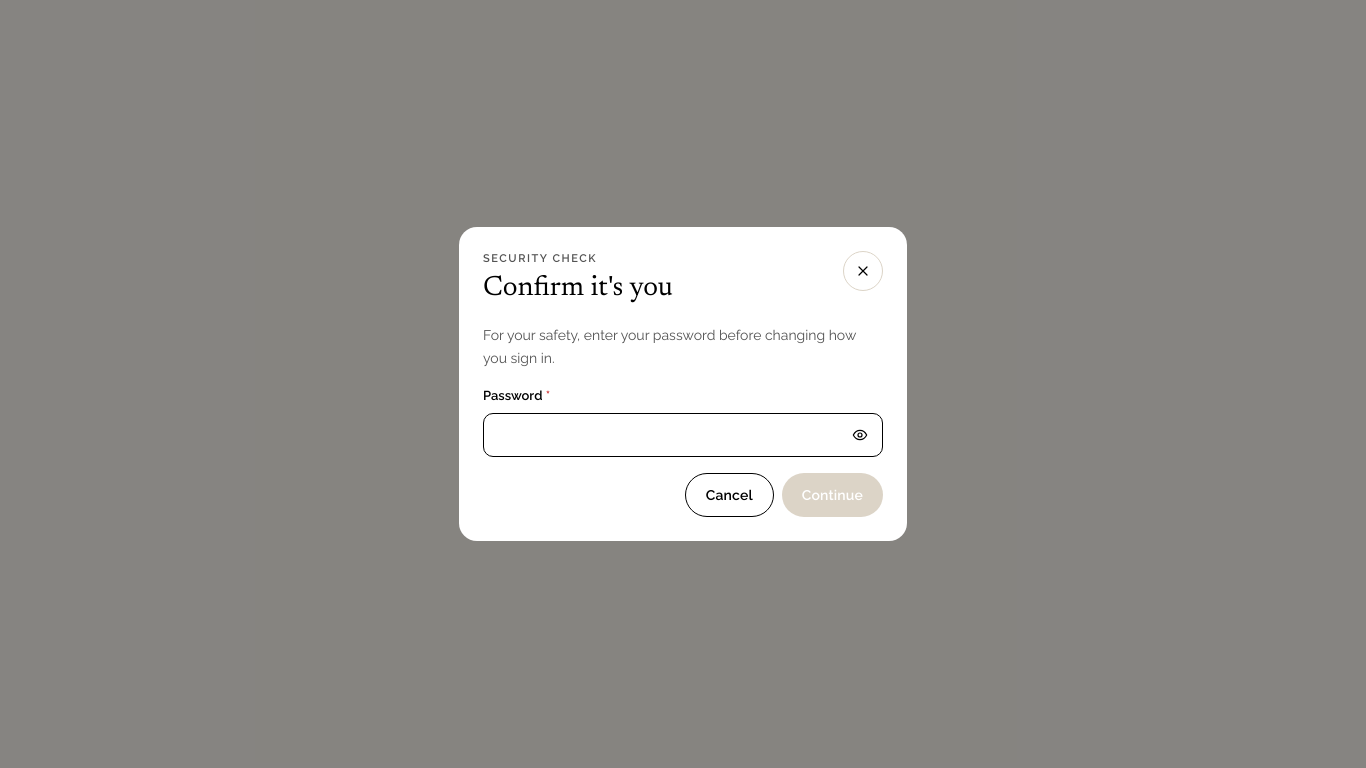
Test: ReverifySheet › a wrong password shows a message and stays open
Type "nope" into the password field labelled "Password *" at (664, 435), box [484,414,844,456]
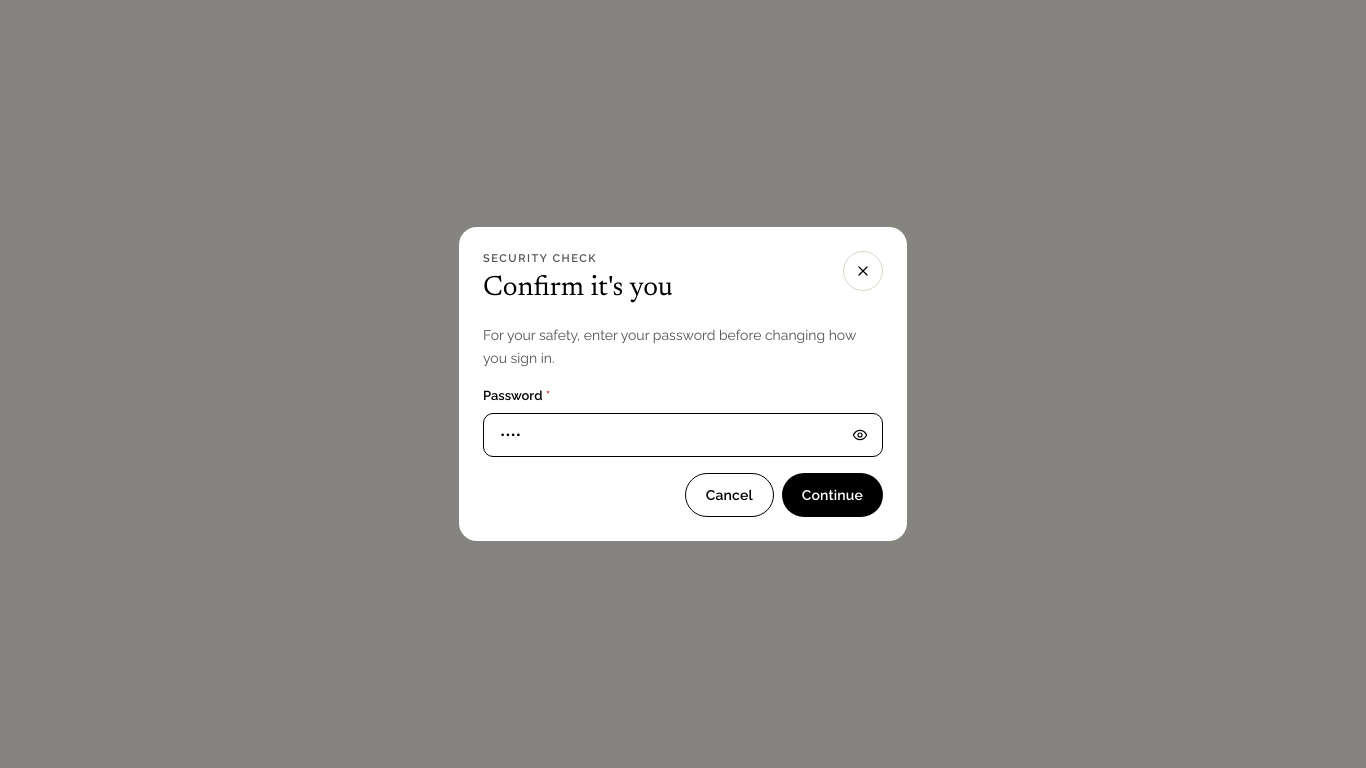
Click the button "Continue" at (832, 495), box [782,473,883,517]
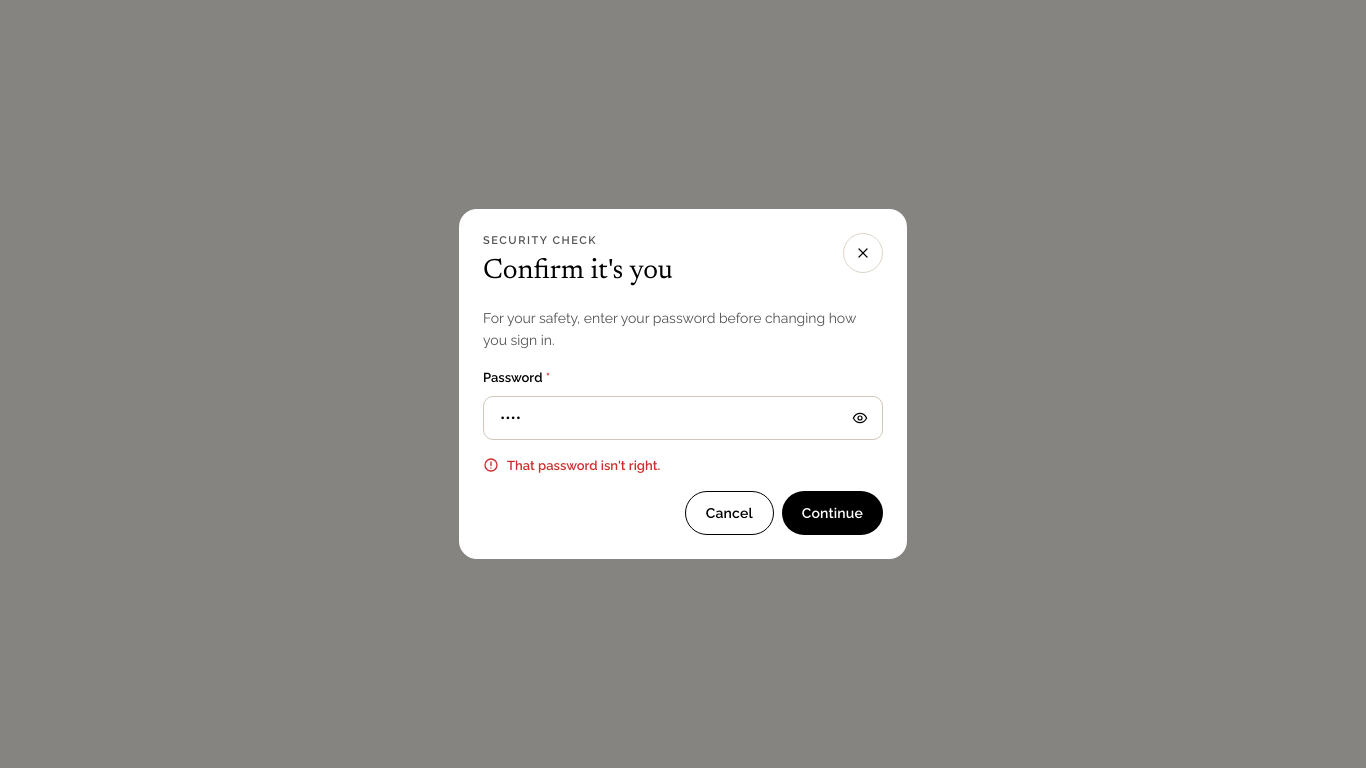
Now the message reads "That password isn't right.", box [507,458,660,472]
